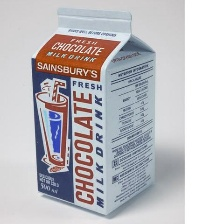carton: (26, 5, 169, 219)
